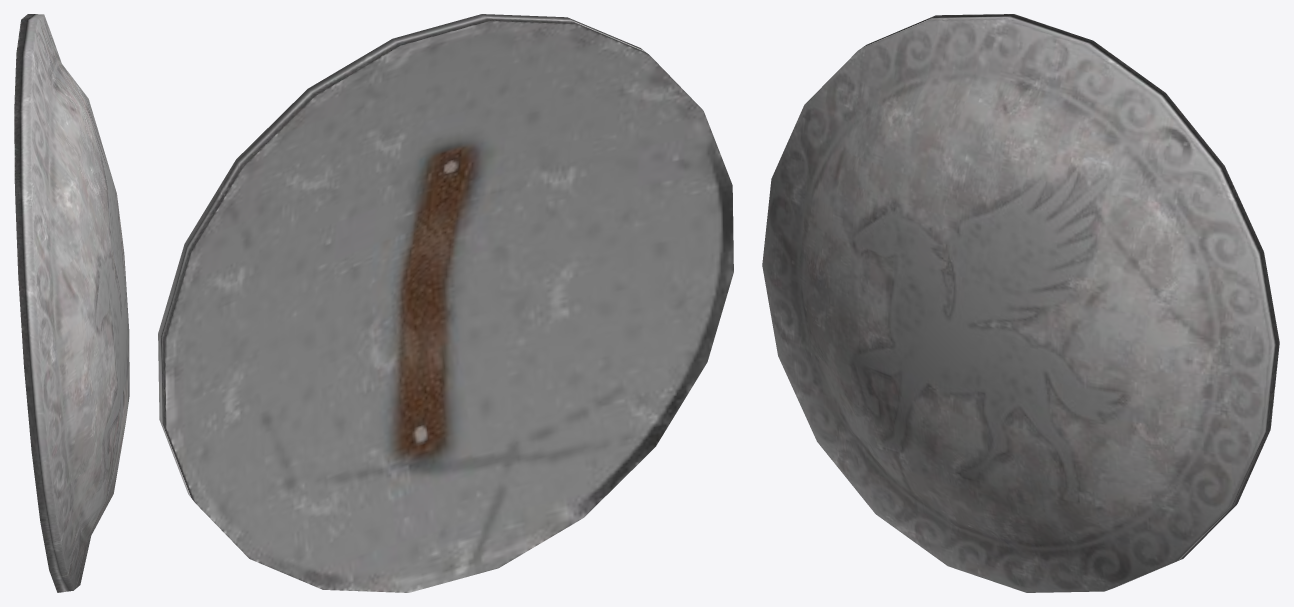
File: rider-shield-slice-base.glb
3 views of the same model, side by side, from view 1: azimuth 30°, elevation 25°; view 2: azimuth 150°, elevation 25°; view 3: azimuth 270°, elevation 25° (orthographic). The views are drawn at different scales.
Bounding box in the file's own units: 0.5687 × 0.9978 × 0.8606.
Materials: 1 (1 with a texture image).
